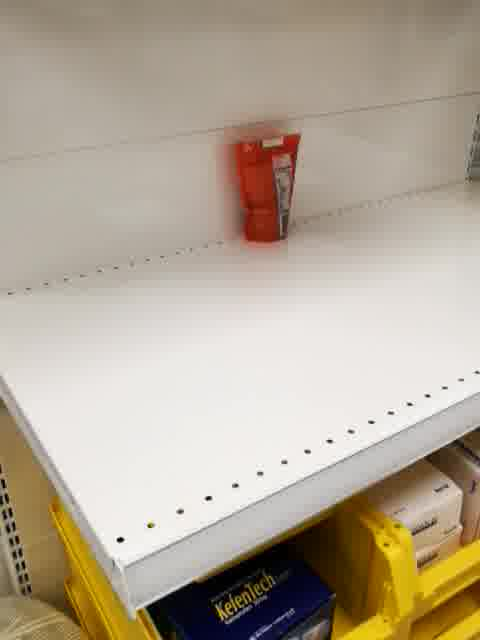whitechia: (224, 131, 303, 248)
